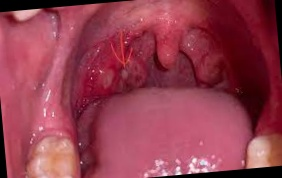Ulcer: (115, 64, 129, 82)
